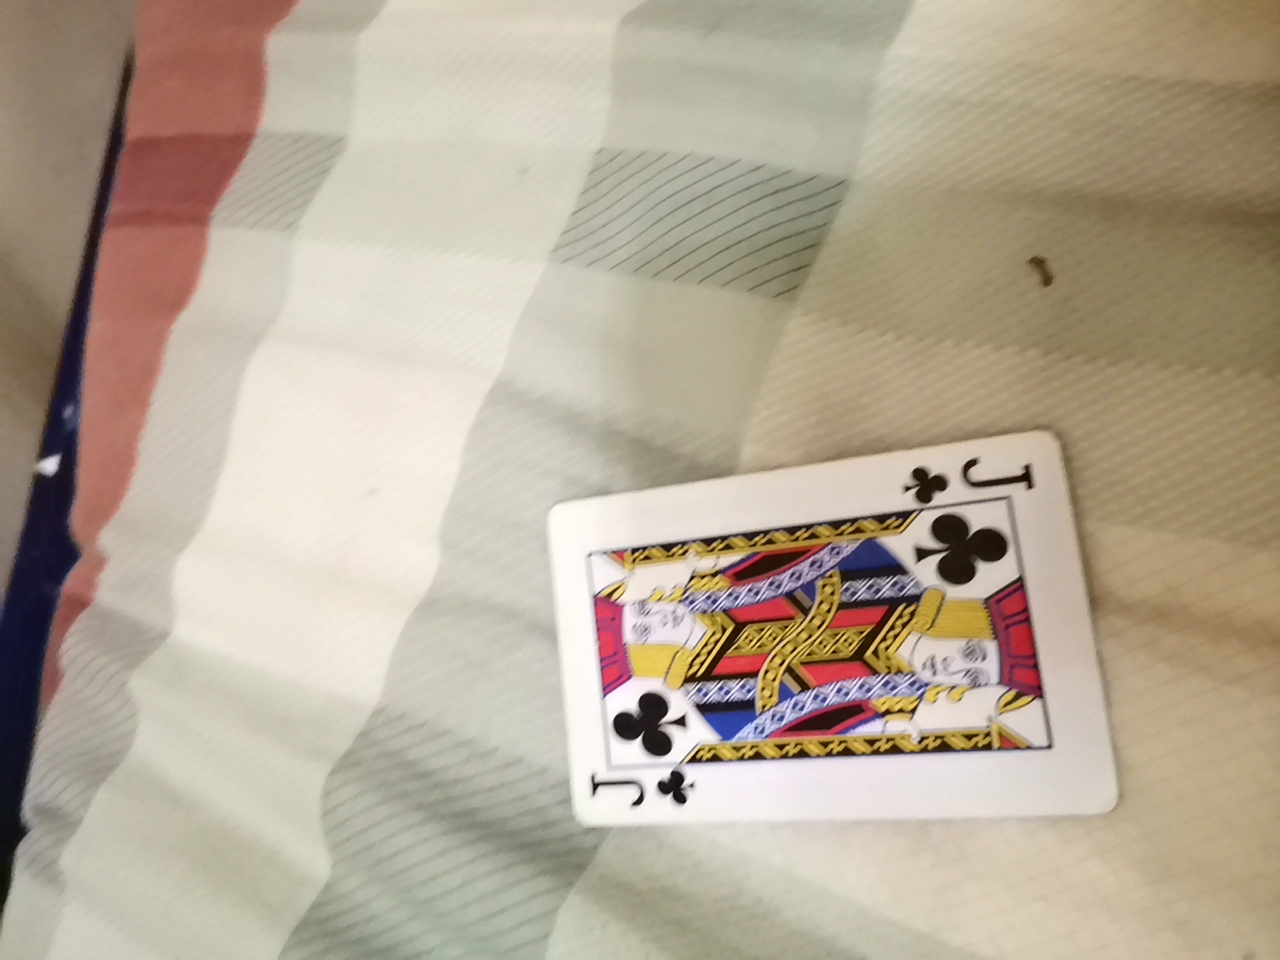mh j: (552, 436, 1113, 830)
